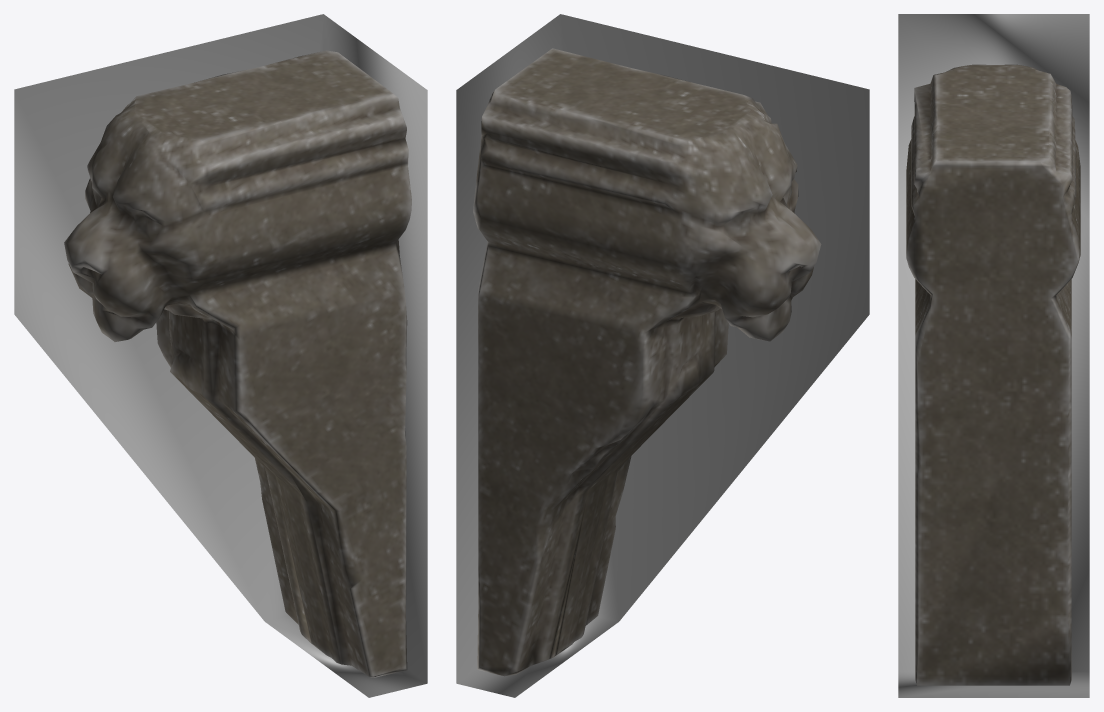
File: SM_Statue_Wall_01a.gltf
3 views of the same model, side by side, from view 1: azimuth 30°, elevation 25°; view 2: azimuth 150°, elevation 25°; view 3: azimuth 270°, elevation 25° (orthographic). The views are drawn at different scales.
Parts seen in each view (by area): view 1: SM_Statue_Wall_01a_LOD0, SM_Statue_Wall_01a_ConvexHulls; view 2: SM_Statue_Wall_01a_LOD0, SM_Statue_Wall_01a_ConvexHulls; view 3: SM_Statue_Wall_01a_LOD0, SM_Statue_Wall_01a_ConvexHulls.
Part boxes in pixels (x1,y1,x2,y2): SM_Statue_Wall_01a_LOD0: [64, 50, 411, 677]; SM_Statue_Wall_01a_ConvexHulls: [14, 14, 427, 697]; SM_Statue_Wall_01a_LOD0: [473, 48, 821, 676]; SM_Statue_Wall_01a_ConvexHulls: [456, 14, 869, 697]; SM_Statue_Wall_01a_LOD0: [906, 64, 1080, 685]; SM_Statue_Wall_01a_ConvexHulls: [898, 14, 1089, 697].
Size of what is drawn, in the model's own units: 1.07 by 1.97 by 0.6254.
Materials: 2 (1 with a texture image).
